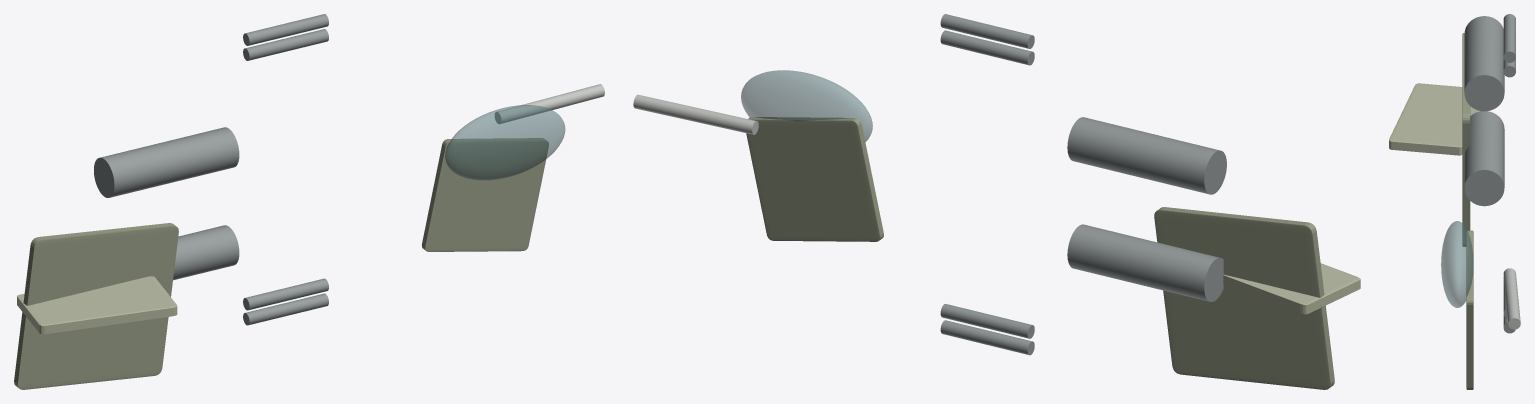
Rendered from v-x04-vanguard-aero-lod2.glb.
3 views of the same model, side by side, from view 1: azimuth 30°, elevation 25°; view 2: azimuth 150°, elevation 25°; view 3: azimuth 270°, elevation 25° (orthographic). The views are drawn at different scales.
Parts seen in each view (by area): view 1: combat_tailplane_-1, canard_-1, combat_canopy, combat_engine_1, combat_fin_-1, combat_engine_0, combat_gun_barrel_0, combat_-1_tube_2, combat_-1_tube_1, combat_1_tube_1, combat_1_tube_2; view 2: combat_tailplane_-1, canard_-1, combat_engine_1, combat_engine_0, combat_canopy, combat_fin_-1, combat_gun_barrel_0, combat_-1_tube_1, combat_1_tube_1, combat_-1_tube_2, combat_1_tube_2; view 3: combat_fin_-1, combat_engine_1, combat_engine_0, combat_canopy, canard_-1, combat_tailplane_-1, combat_gun_barrel_0, combat_1_tube_2, combat_1_tube_1.
Boxes of the visible parts, bbox=[...] form: combat_tailplane_-1: bbox=[14, 223, 178, 389]; canard_-1: bbox=[422, 138, 548, 251]; combat_canopy: bbox=[445, 105, 565, 180]; combat_engine_1: bbox=[94, 127, 239, 197]; combat_fin_-1: bbox=[17, 276, 177, 334]; combat_engine_0: bbox=[173, 225, 239, 280]; combat_gun_barrel_0: bbox=[495, 84, 604, 123]; combat_-1_tube_2: bbox=[243, 278, 328, 310]; combat_-1_tube_1: bbox=[243, 293, 328, 325]; combat_1_tube_1: bbox=[243, 29, 328, 60]; combat_1_tube_2: bbox=[243, 14, 328, 45]; combat_tailplane_-1: bbox=[1154, 207, 1334, 389]; canard_-1: bbox=[746, 117, 883, 241]; combat_engine_1: bbox=[1067, 117, 1226, 194]; combat_engine_0: bbox=[1067, 224, 1223, 301]; combat_canopy: bbox=[741, 70, 872, 141]; combat_fin_-1: bbox=[1223, 263, 1360, 314]; combat_gun_barrel_0: bbox=[633, 94, 758, 134]; combat_-1_tube_1: bbox=[940, 320, 1034, 355]; combat_1_tube_1: bbox=[940, 30, 1034, 65]; combat_-1_tube_2: bbox=[940, 304, 1034, 338]; combat_1_tube_2: bbox=[940, 14, 1034, 48]; combat_fin_-1: bbox=[1389, 83, 1480, 155]; combat_engine_1: bbox=[1464, 16, 1504, 111]; combat_engine_0: bbox=[1464, 111, 1504, 206]; combat_canopy: bbox=[1441, 221, 1473, 307]; canard_-1: bbox=[1466, 230, 1473, 389]; combat_tailplane_-1: bbox=[1462, 33, 1470, 246]; combat_gun_barrel_0: bbox=[1503, 268, 1520, 329]; combat_1_tube_2: bbox=[1503, 14, 1515, 62]; combat_1_tube_1: bbox=[1503, 59, 1515, 77].
Size of what is drawn, in the model's own units: 15.87 by 7.34 by 3.06.
